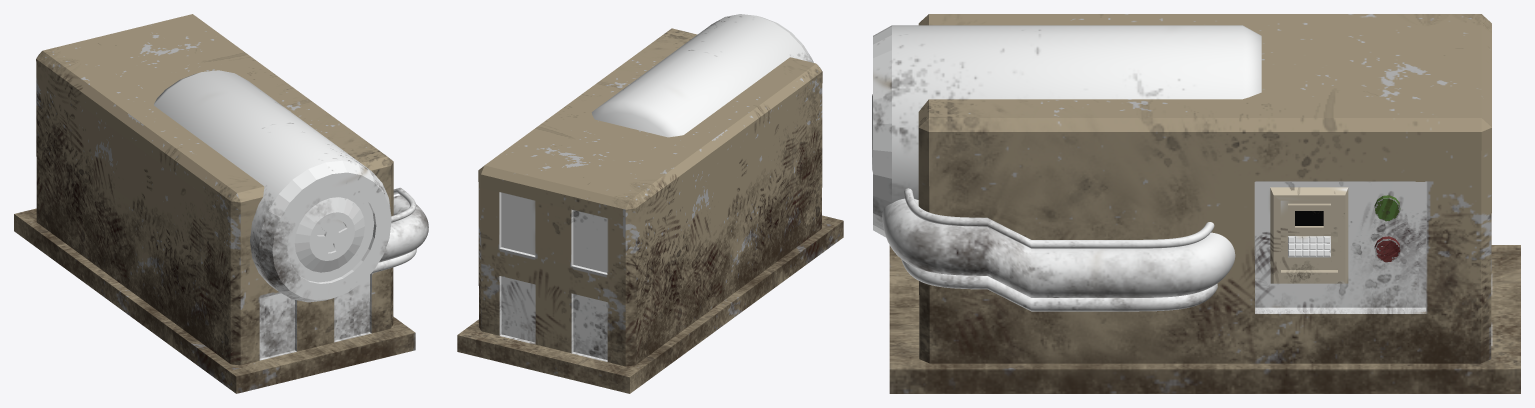
Rendered from Generator.fbx.
3 views of the same model, side by side, from view 1: azimuth 30°, elevation 25°; view 2: azimuth 150°, elevation 25°; view 3: azimuth 270°, elevation 25° (orthographic). The views are drawn at different scales.
Parts seen in each view (by area): view 1: Generator; view 2: Generator; view 3: Generator.
Part boxes in pixels (x1,y1,x2,y2): Generator: (14,14,428,393); Generator: (457,14,843,393); Generator: (872,14,1520,393).
Size of the model in its own units: 259 by 245 by 485.
1 material, 1 textured.
